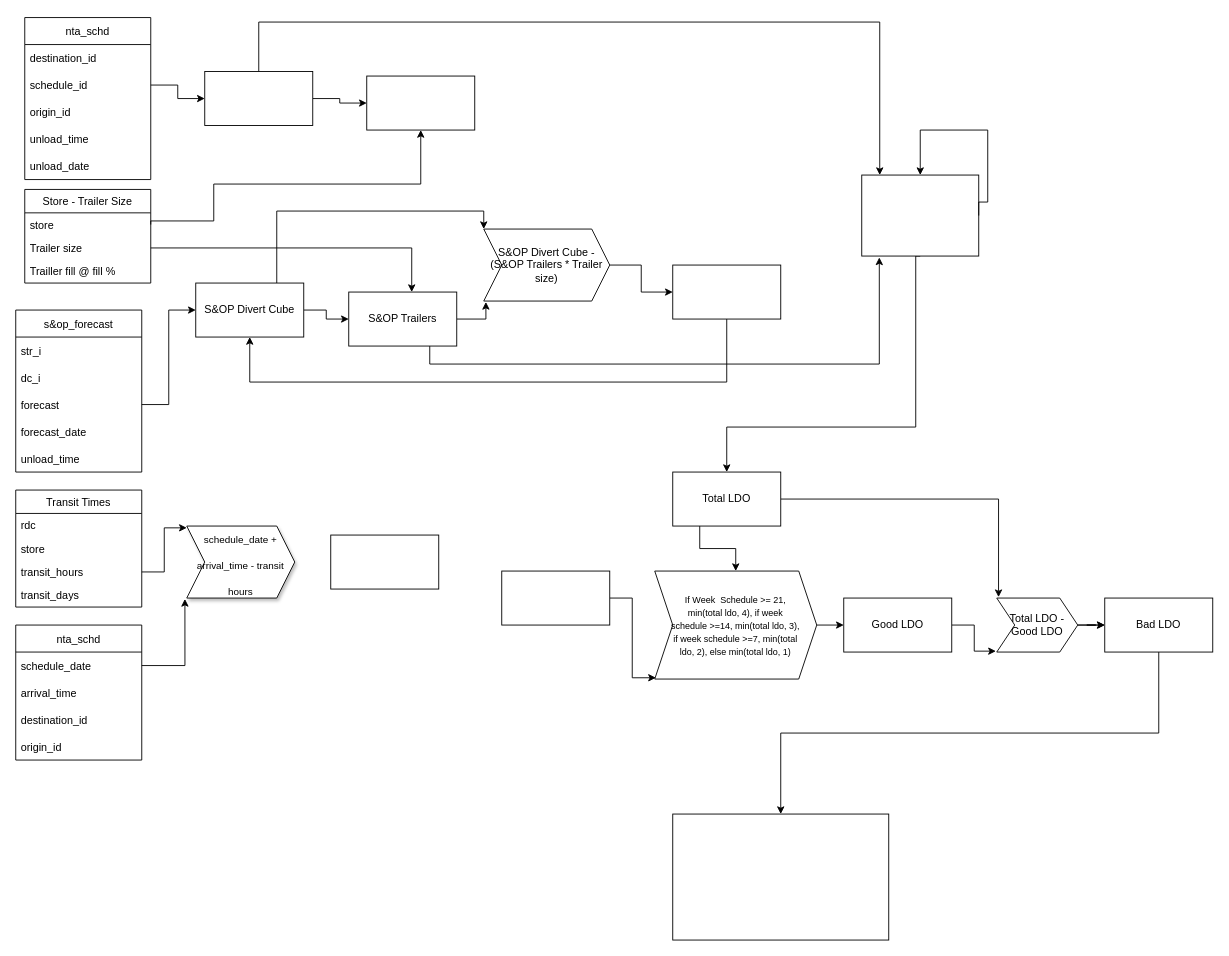
The diagram is 1229 pixels wide and 956 high, and some of its shapes have lost their labels. Here are the shapes that lost their labels. From the top down, the centre of each, then its label:
At point 258,98: "MM Trailers".
At point 420,102: "Outbound Cube".
At point 920,215: "Backlog Beginning of Day (S&OP Trailers - MM Trailers + previous day backlog)".
At point 726,291: "Warehouse Extra".
At point 384,561: "depart_time".
At point 555,597: "Week Schedule (unloads per week nta_schd)".
At point 780,876: "Potential Add max(Bad LDO - 1, 0)".
